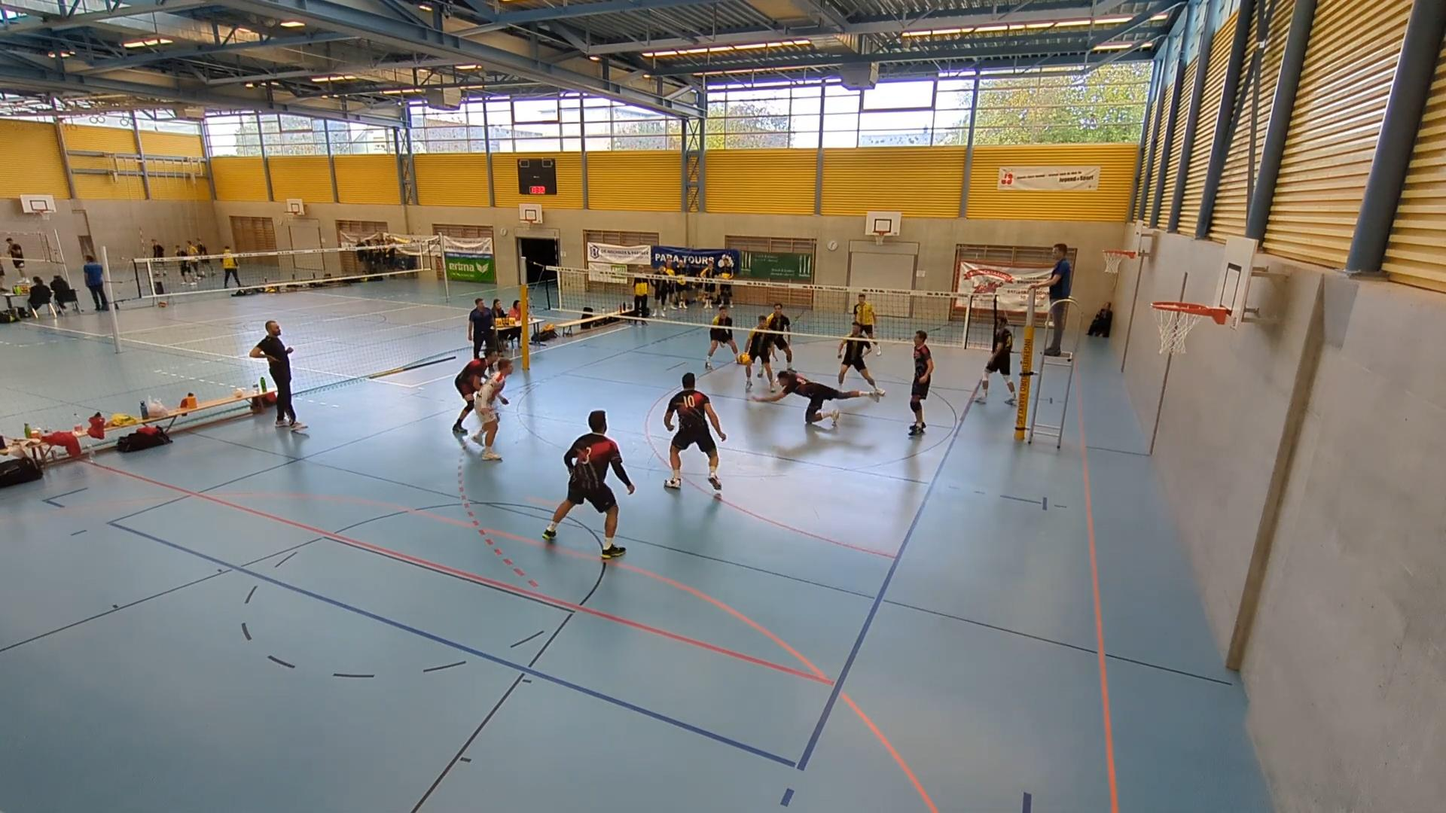difesa: (753, 362, 889, 429)
